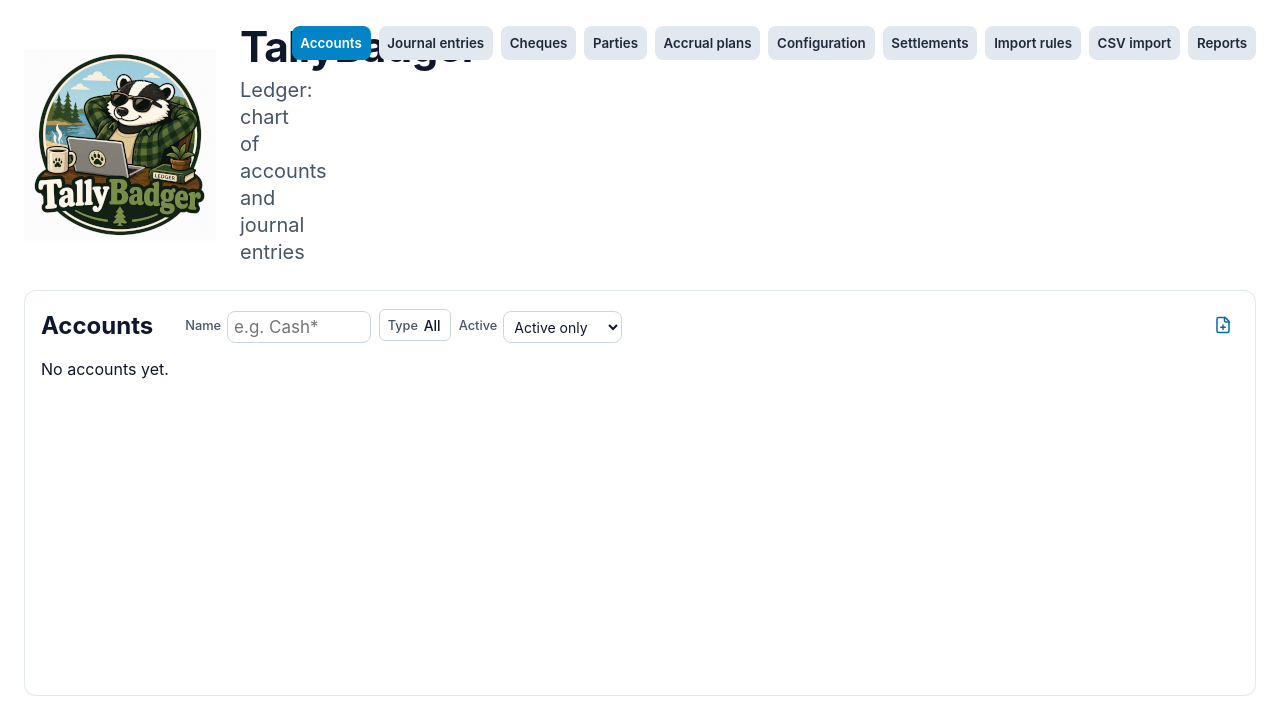
it: App › shows duplicate-name API error
Click the button named "Create account".
click(1223, 325)  # box left=1207, top=309, right=1239, bottom=341
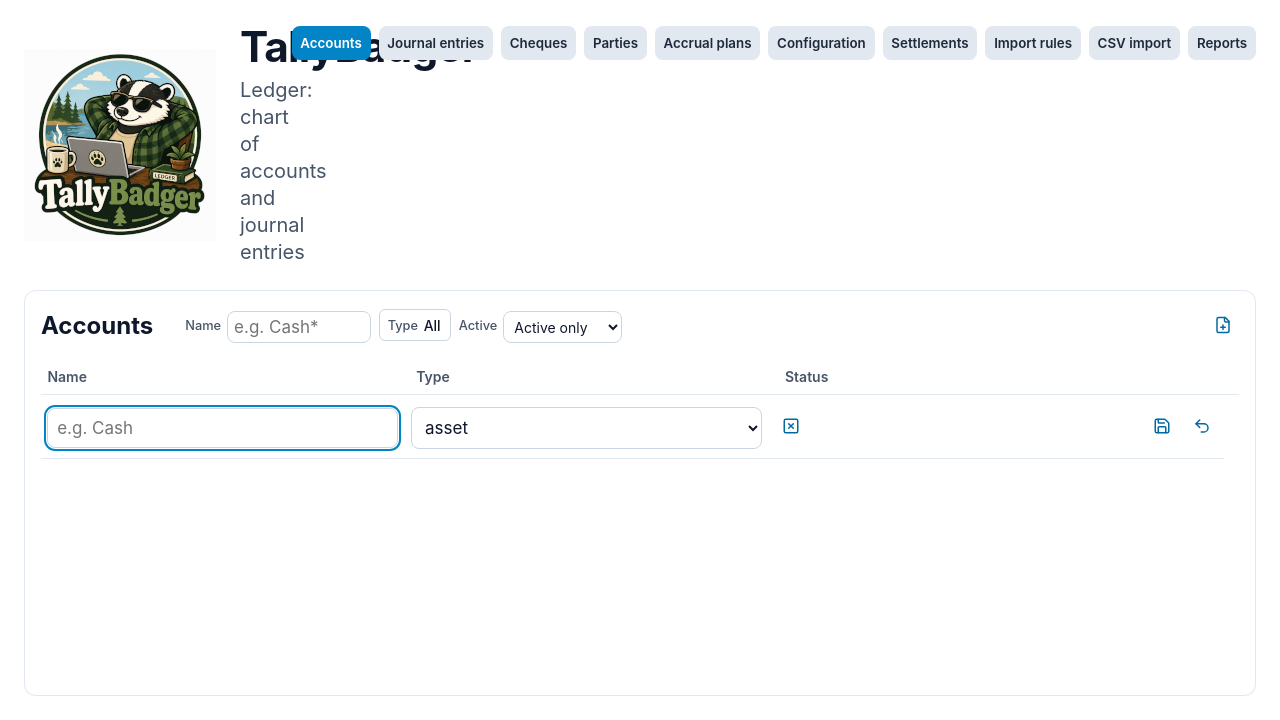
Type "Cash" into the field named "New account name".
click(223, 428); type("Cash")  # box left=47, top=408, right=398, bottom=448
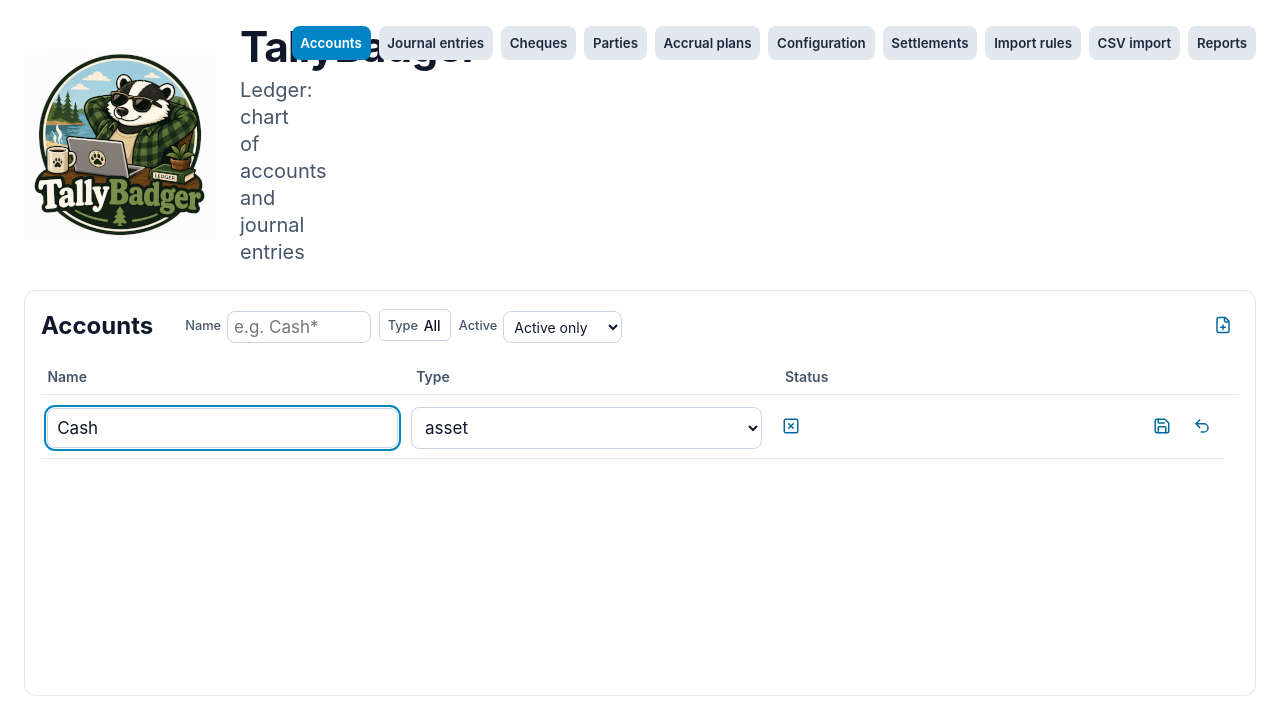
Click the button named "Save new account (Ctrl+S)".
click(1162, 426)  # box left=1146, top=410, right=1178, bottom=442
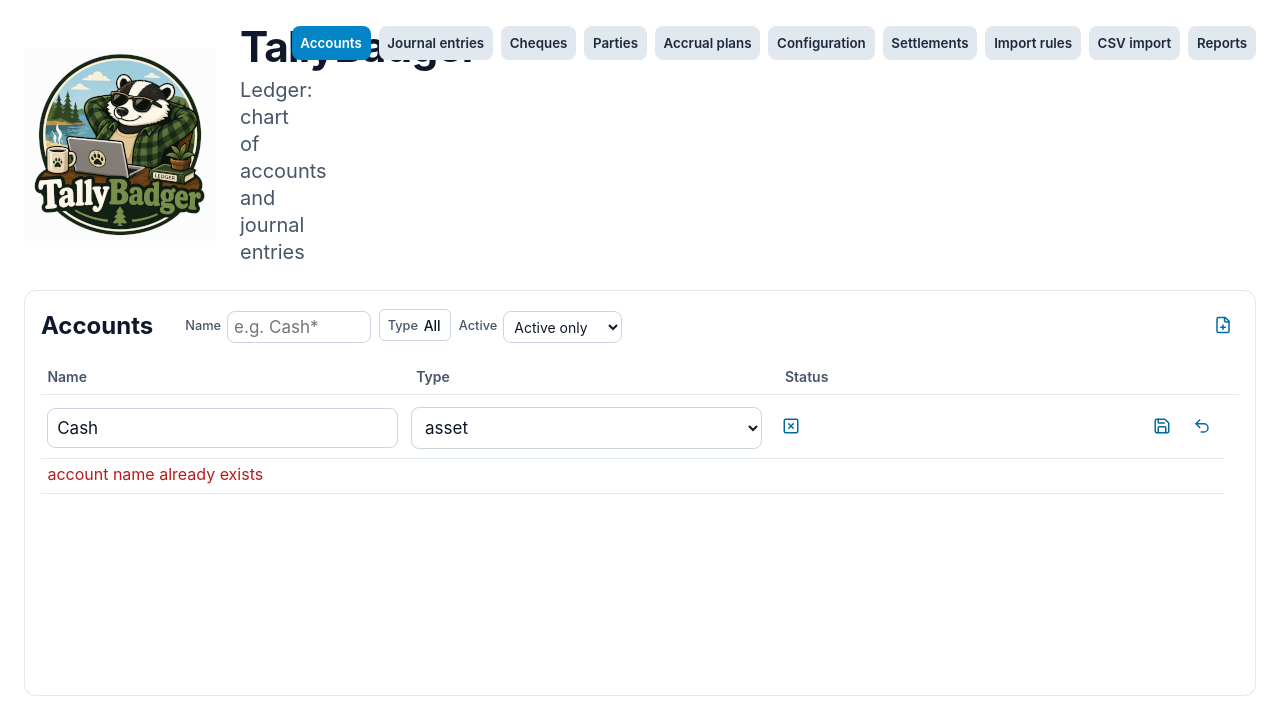
Check: the message reads "account name already exists", box left=47, top=464, right=263, bottom=484
